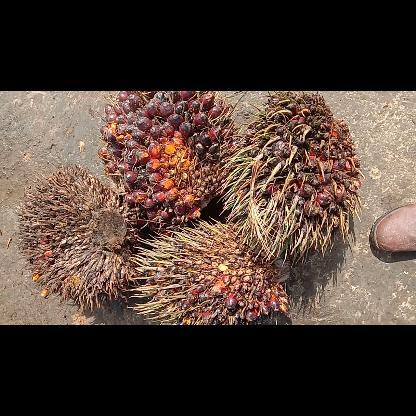Kurang masak: (222, 90, 360, 264)
TBS abnormal: (127, 218, 291, 324), (17, 164, 135, 308)
Terlalu masak: (100, 91, 236, 227)
